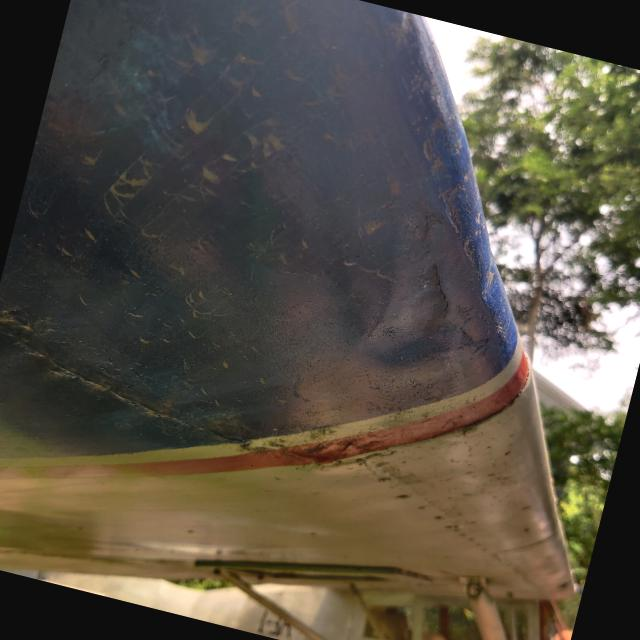dent: (254, 152, 516, 432)
